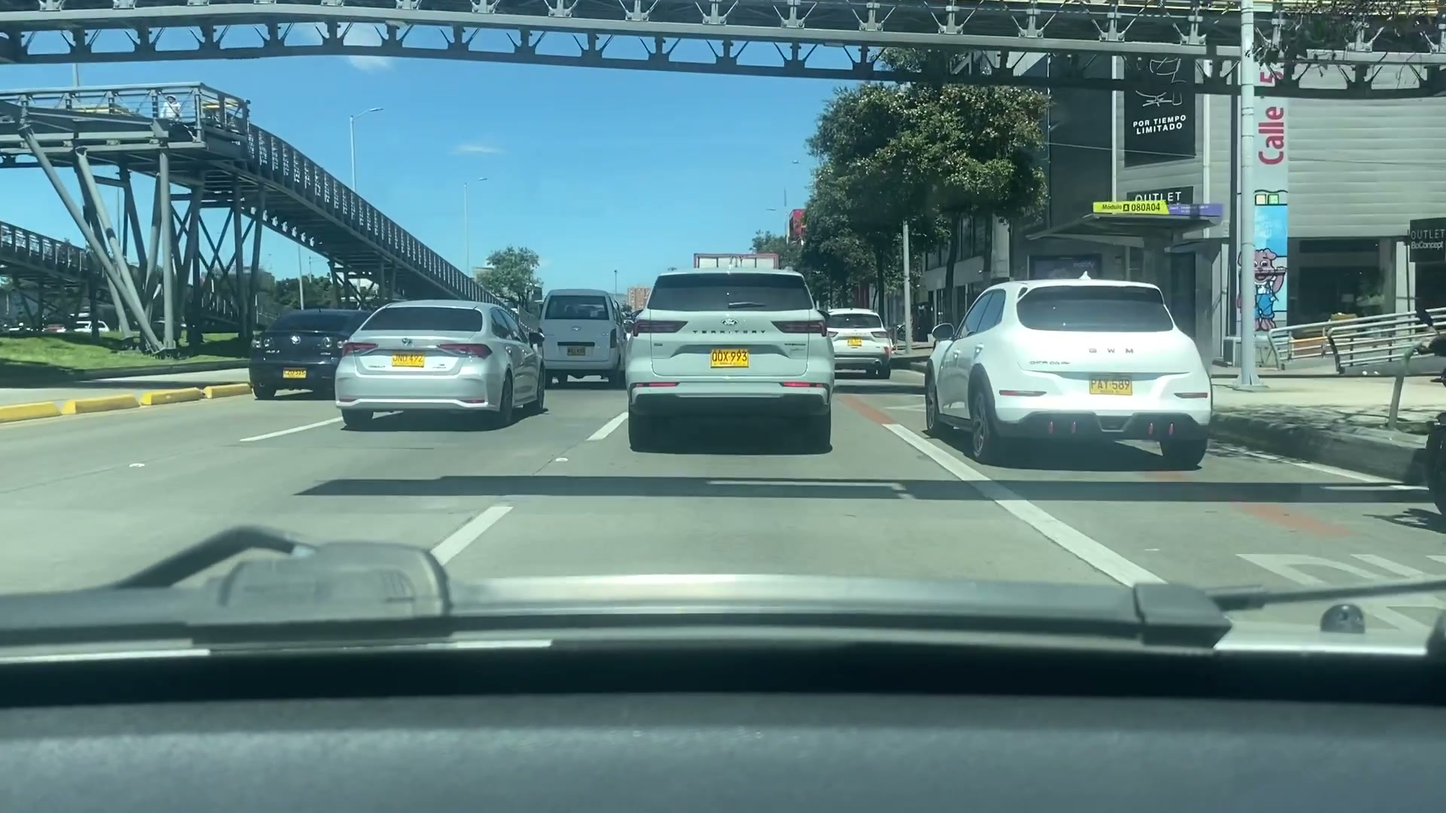car: (919, 274, 1221, 475), (625, 263, 832, 451), (335, 294, 544, 427), (251, 306, 370, 401), (537, 288, 628, 387), (819, 308, 897, 380)
